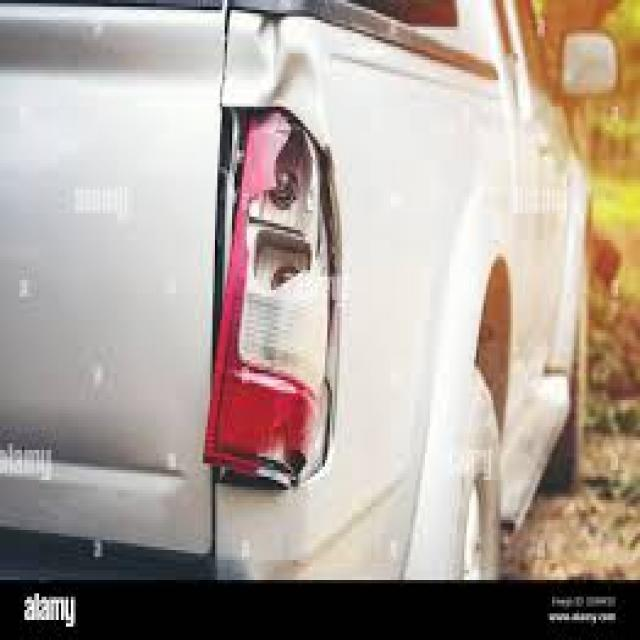damaged-tail-light: (218, 98, 334, 496)
